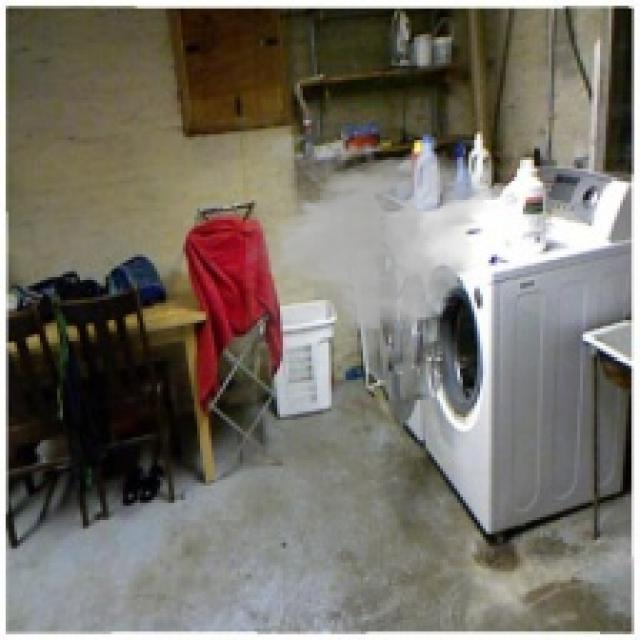smoke: (246, 126, 488, 366)
